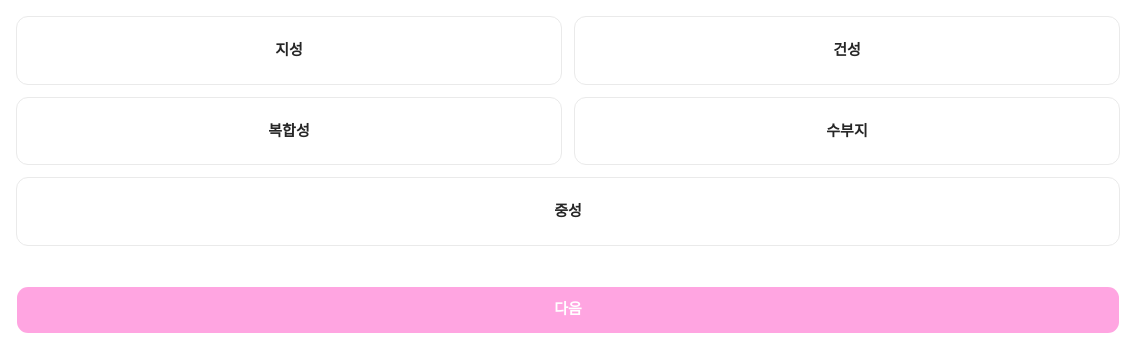
SkinTypeForm › 항목을 고르면 aria-pressed 가 켜지고 '다음'이 활성화된다
Click the button "지성": (289, 50) [16,16,562,84]
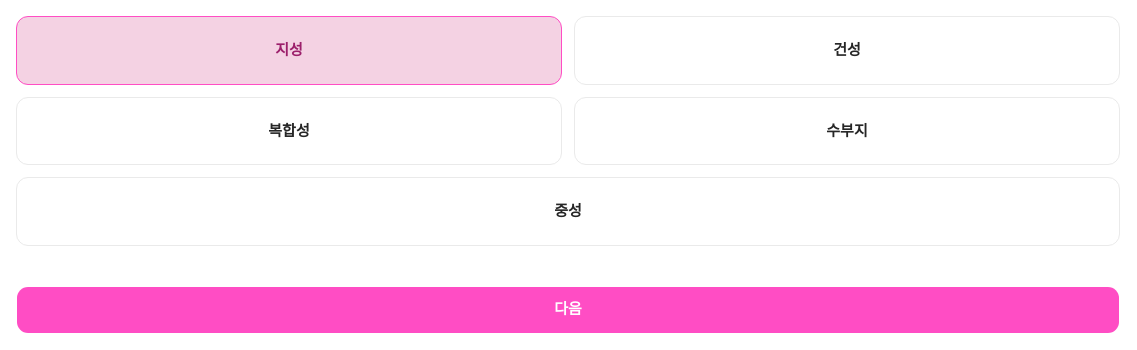
Now the button "다음" is enabled, box [16,286,1120,334]
